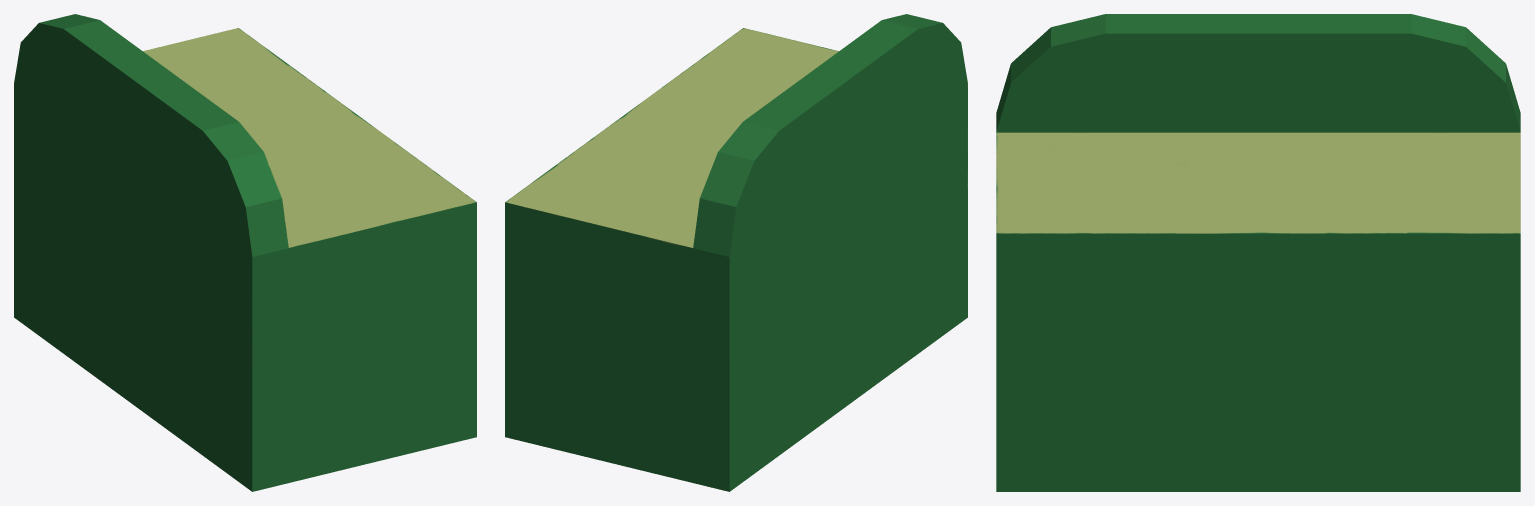
File: ARAmmo.glb
3 renders of one model, left to right at view 1: azimuth 30°, elevation 25°; view 2: azimuth 150°, elevation 25°; view 3: azimuth 270°, elevation 25°, orthographic. The views are drawn at different scales.
Parts seen in each view (by area): view 1: ARAmmo; view 2: ARAmmo; view 3: ARAmmo.
Part boxes in pixels (x1,y1,x2,y2): ARAmmo: [14, 14, 476, 491]; ARAmmo: [505, 14, 967, 491]; ARAmmo: [996, 14, 1520, 491].
Bounding box in the file's own units: 0.0797 × 0.1102 × 0.1466.
Materials: 1 (1 with a texture image).
